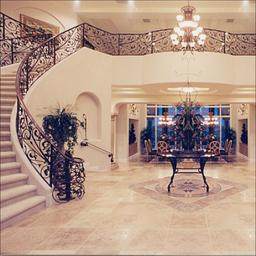Escaleras: (0, 24, 80, 227)
